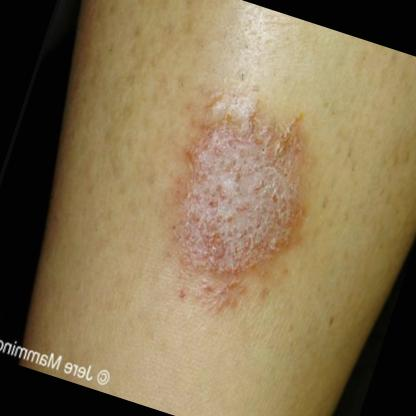Ringworm: (119, 66, 354, 348)
